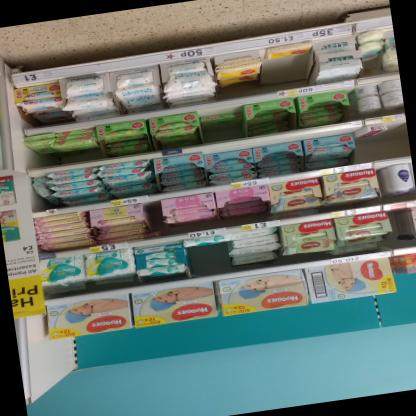empty_space: (384, 117, 407, 146)
